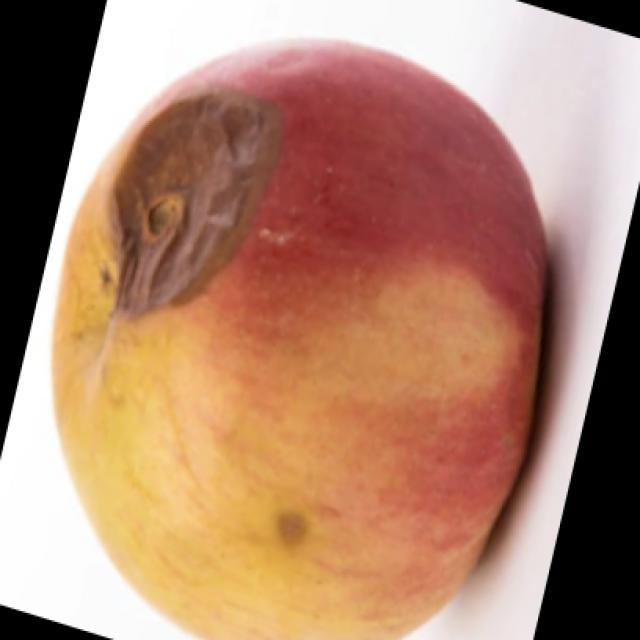Rotten: (45, 50, 550, 640)
